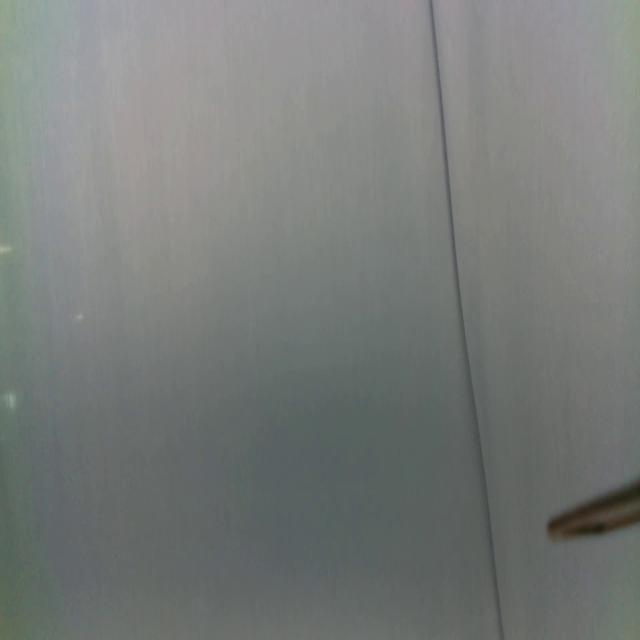crease: (430, 0, 505, 640)
